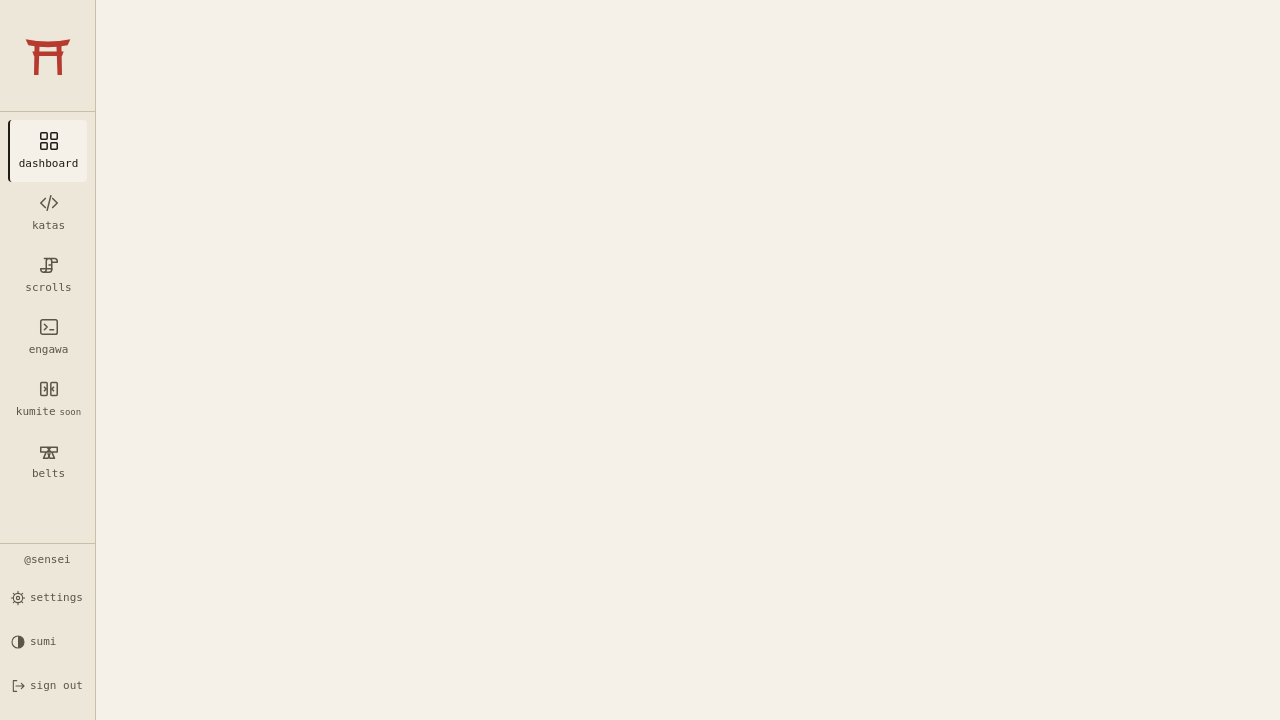
Test: Sidebar — account section › stays signed in when the dialog is dismissed
The width and height of the screenshot is (1280, 720).
Click the button "sign out" at point(48, 686), box [8,664,87,708]
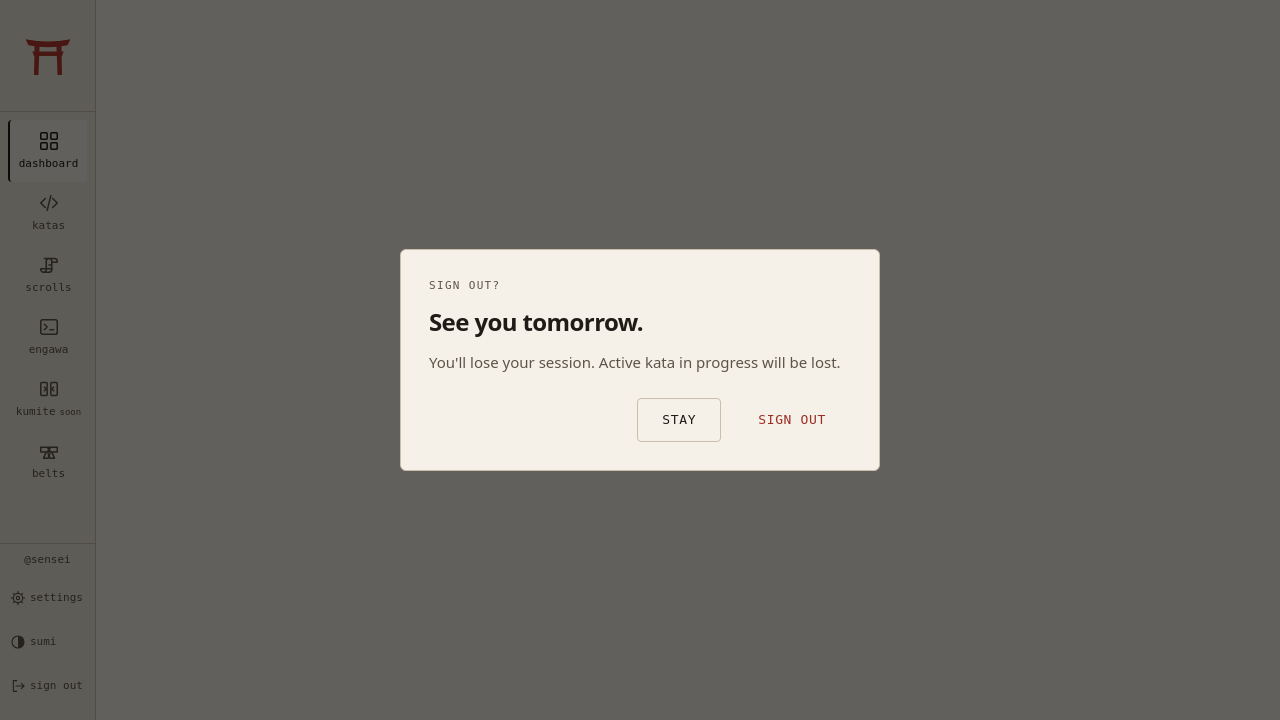
Click the button "Stay" at point(679, 420), box [637,398,721,442]
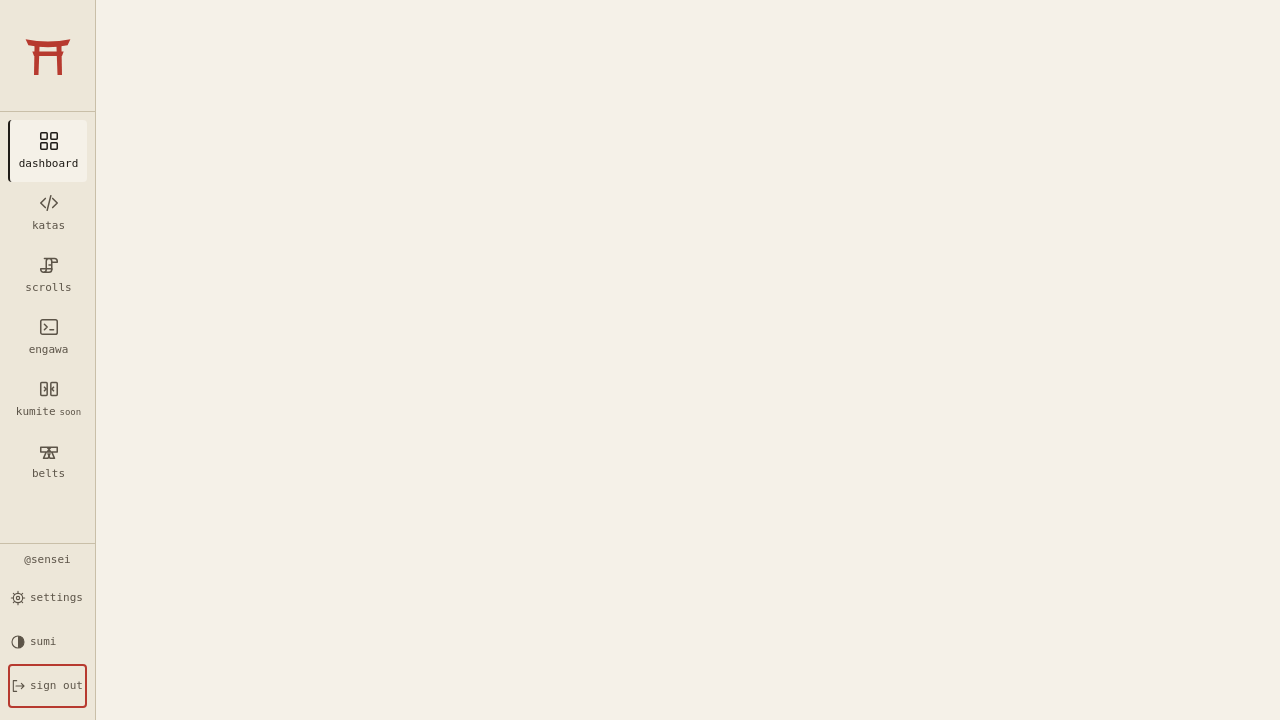
Result: the dialog is gone
